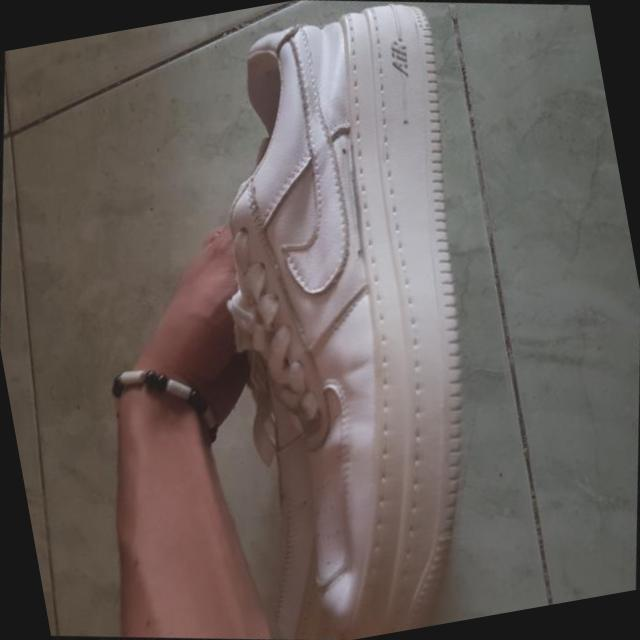nike_fake_airforce: (65, 0, 524, 640)
